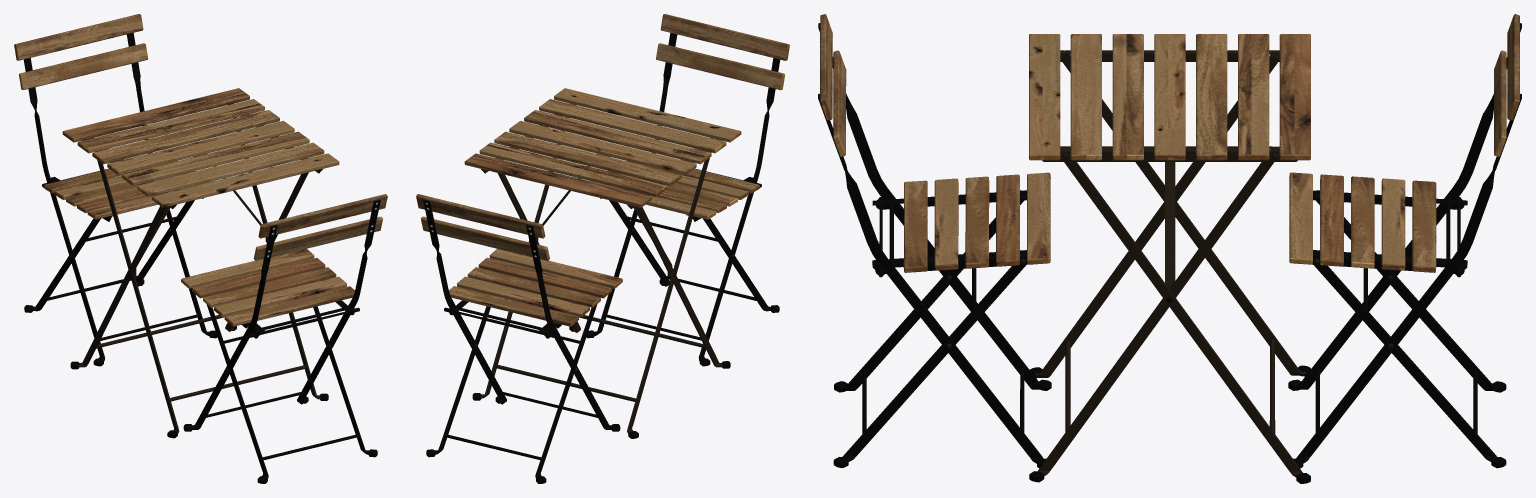
File: tarno_sto_2_krzesa_na_zewnatrz_69898415.glb
3 views of the same model, side by side, from view 1: azimuth 30°, elevation 25°; view 2: azimuth 150°, elevation 25°; view 3: azimuth 270°, elevation 25° (orthographic). The views are drawn at different scales.
Visible parts, largest first — view 1: tarno_sto_2_krzesa_na_zewnatrz_69898415; view 2: tarno_sto_2_krzesa_na_zewnatrz_69898415; view 3: tarno_sto_2_krzesa_na_zewnatrz_69898415.
Part boxes in pixels (x1,y1,x2,y2): tarno_sto_2_krzesa_na_zewnatrz_69898415: [14, 14, 387, 483]; tarno_sto_2_krzesa_na_zewnatrz_69898415: [416, 14, 789, 483]; tarno_sto_2_krzesa_na_zewnatrz_69898415: [818, 14, 1521, 483].
Bounding box in the file's own units: 0.55 × 0.7838 × 1.35.
Materials: 3 (3 with a texture image).
